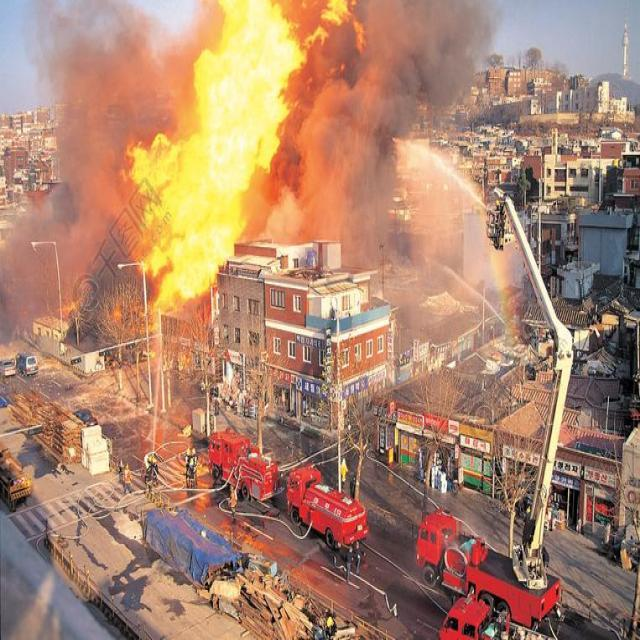Fire: (122, 0, 305, 317)
Smoke: (308, 0, 492, 264)
